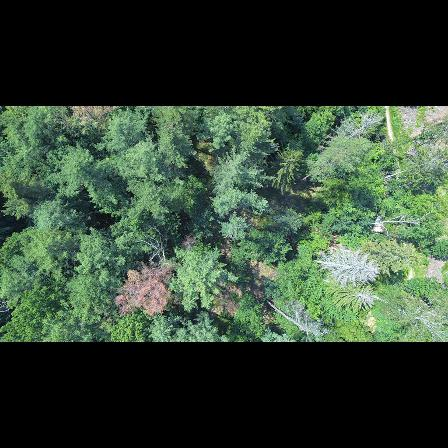Dead: (308, 245, 383, 289), (263, 296, 331, 342), (328, 110, 386, 151)
